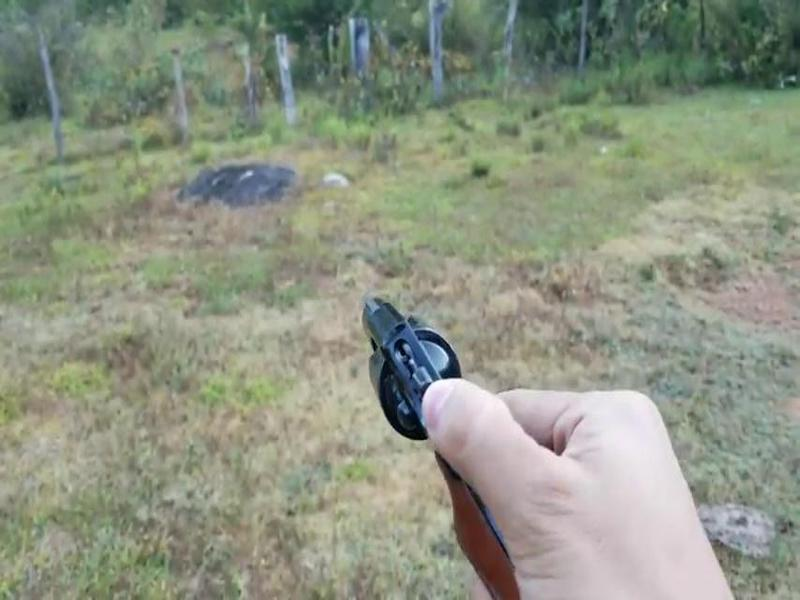Revolver: (322, 276, 527, 494)
